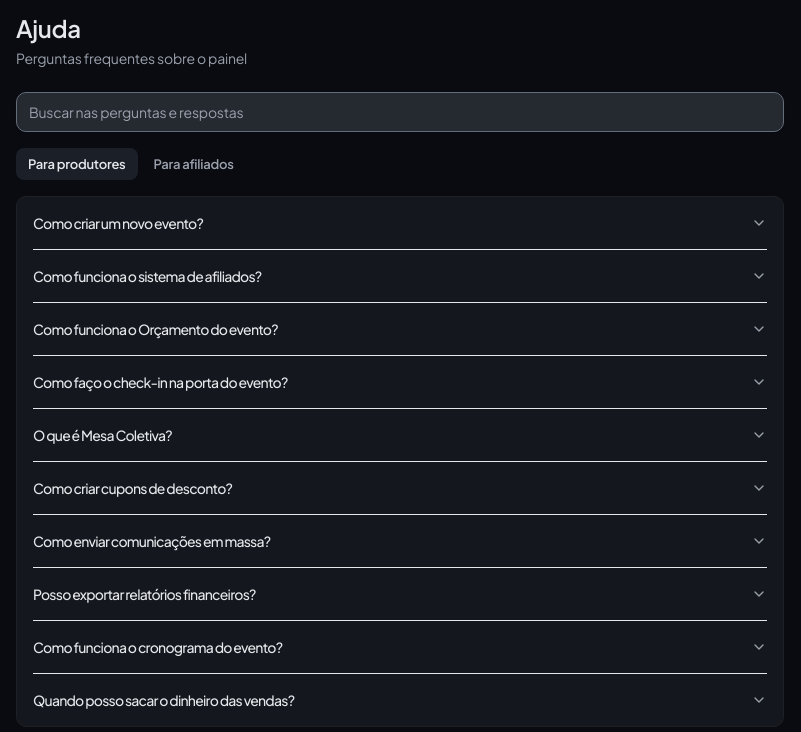
Test: Ajuda (FAQ) › a tela filtra pela busca e avisa quando nada bate
Expected: the button "Como criar cupons de desconto?" is shown, left=33, top=462, right=767, bottom=514
Type "cupons" into the search field labelled "Buscar nas perguntas e respostas".
click(400, 112); type("cupons")  # box left=16, top=92, right=784, bottom=132
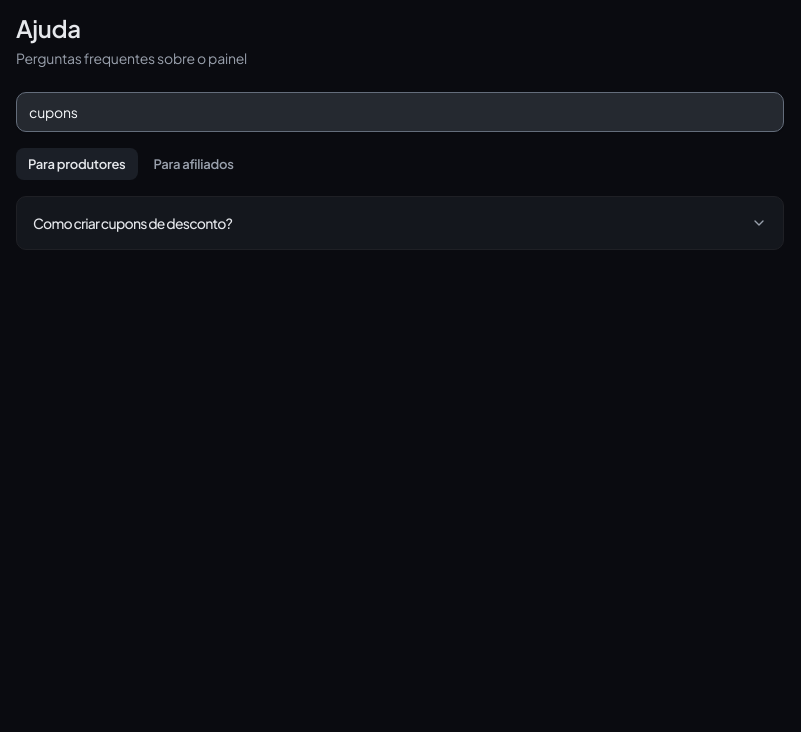
Expected: the button "Como criar cupons de desconto?" is shown, left=33, top=197, right=767, bottom=249
Expected: the button "Como funciona o cronograma do evento?" is gone
Replace the text in the search field named "Buscar nas perguntas e respostas" with "zzzz" at x=400, y=112, box left=16, top=92, right=784, bottom=132
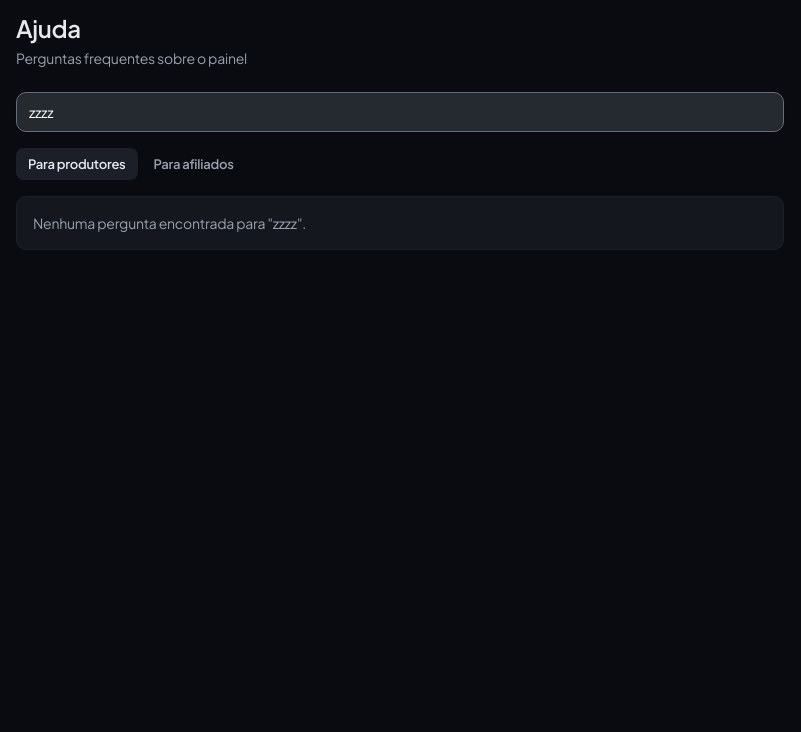
Expected: the message shows "Nenhuma pergunta encontrada", left=33, top=214, right=306, bottom=232
